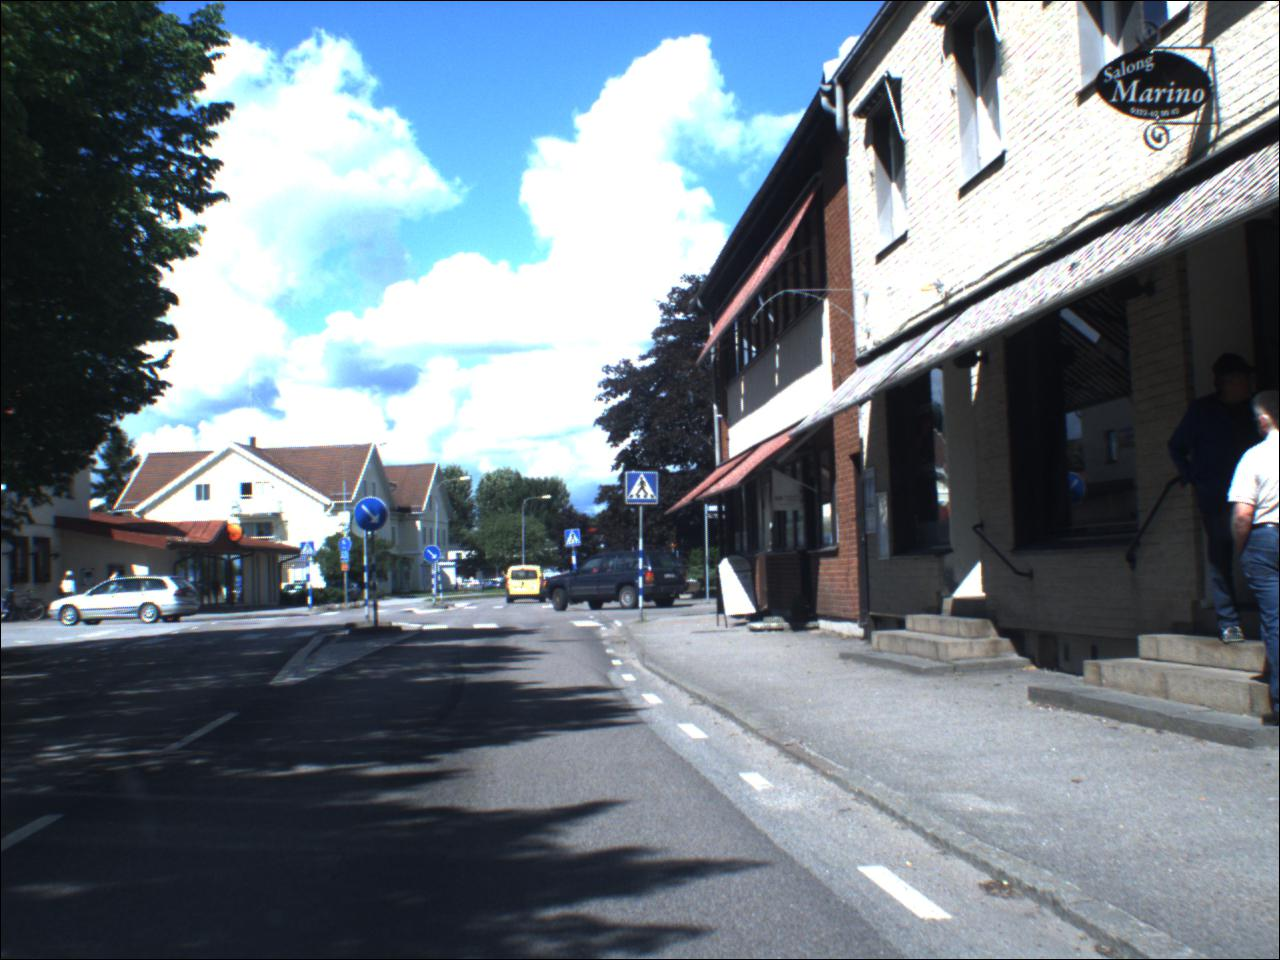PASS_RIGHT_SIDE: (357, 498, 391, 535), (426, 547, 444, 565)
PEDESTRIAN_CROSSING: (627, 473, 662, 507), (567, 531, 583, 550), (302, 543, 317, 557)
